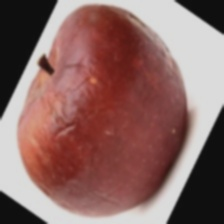apple: (28, 29, 182, 190)
